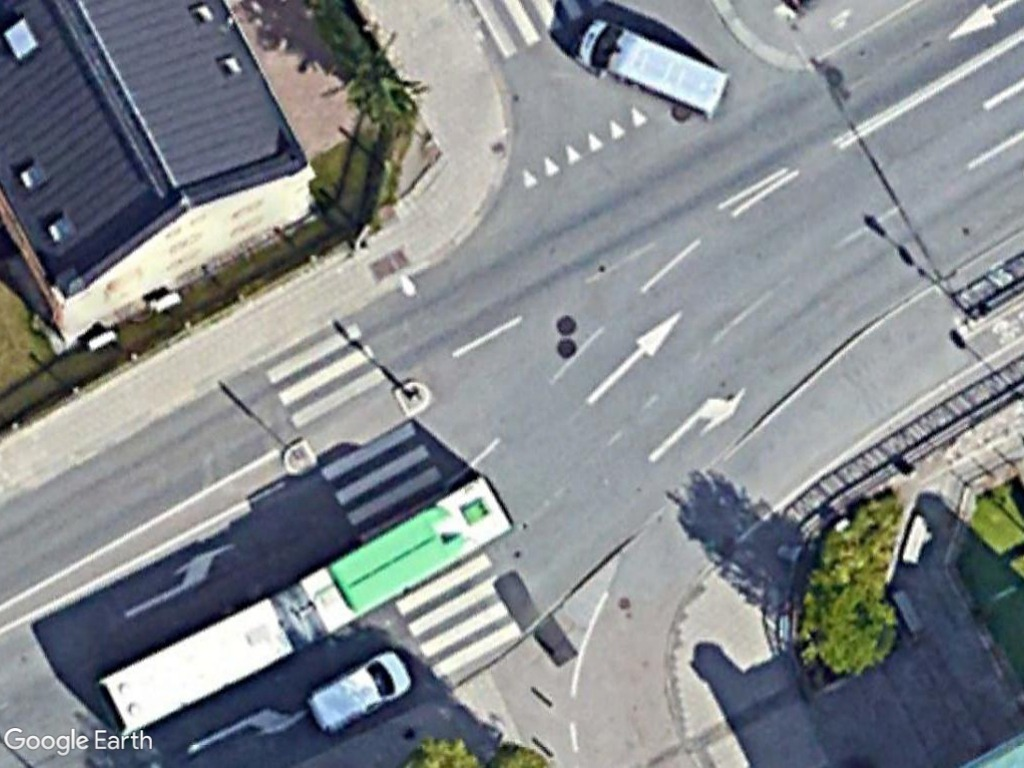bus: (290, 469, 514, 642), (94, 591, 307, 746)
van: (571, 18, 737, 121), (301, 649, 417, 739)
